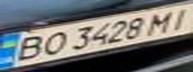2: (106, 17, 133, 45)
3: (69, 24, 97, 52)
4: (90, 20, 115, 48)
8: (124, 14, 154, 40)
B: (6, 33, 51, 63)
I: (160, 3, 193, 32)
M: (142, 8, 181, 36)
O: (33, 29, 72, 58)
